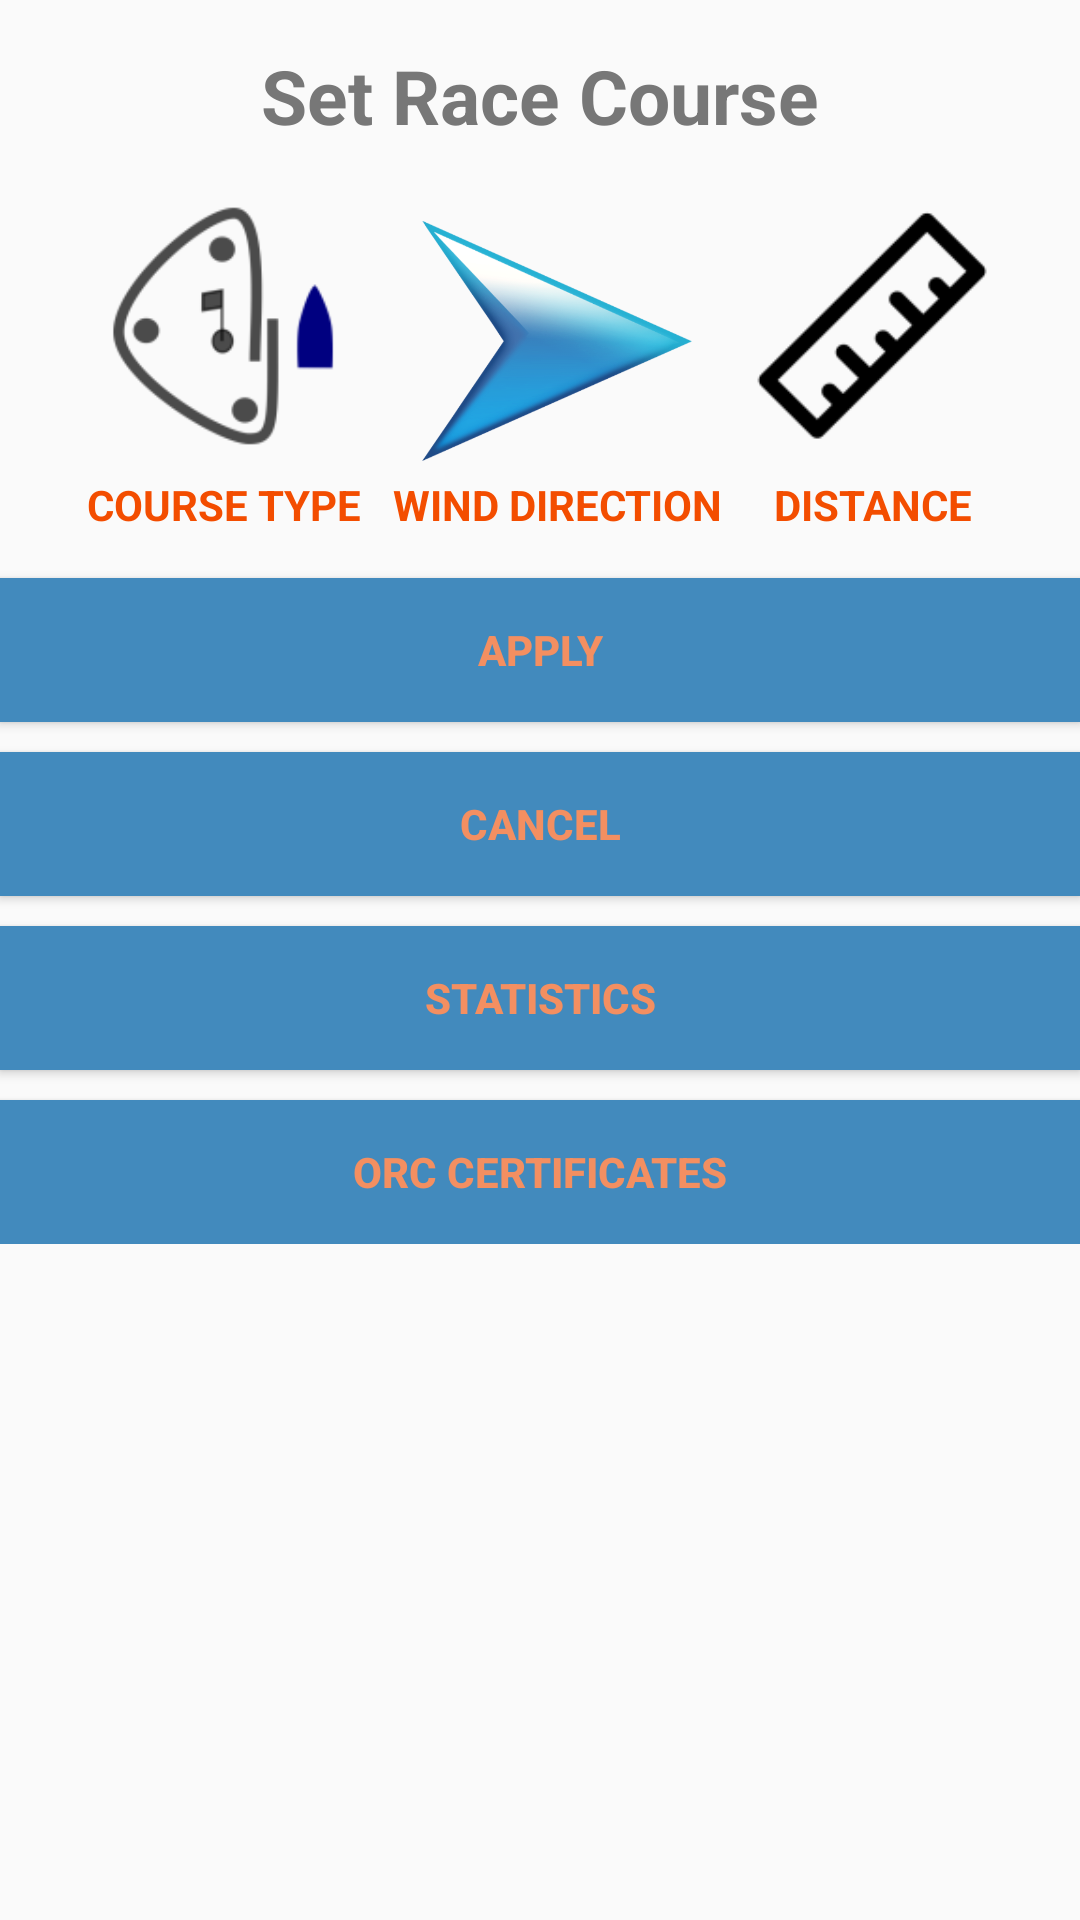

Screen size 1080×1920. Icon name, then its center in pixels as (x,y):
arrow: (557,341)
